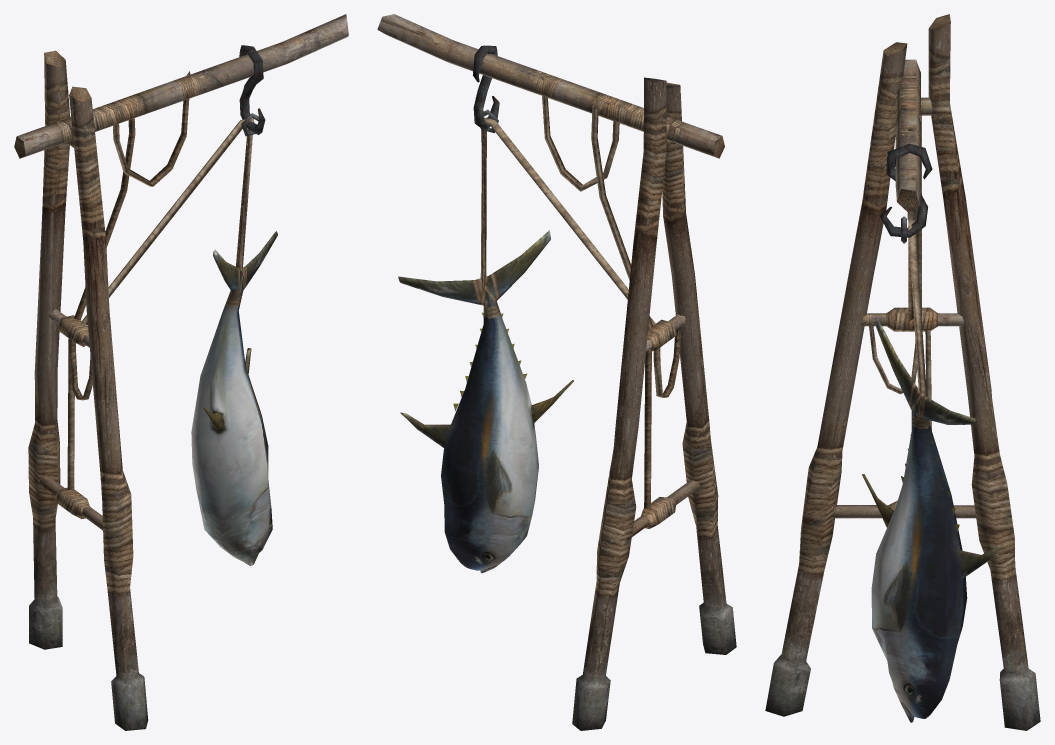
The picture shows the model from 3 angles, left to right: view 1: azimuth 30°, elevation 25°; view 2: azimuth 150°, elevation 25°; view 3: azimuth 270°, elevation 25°; orthographic projection. The views are drawn at different scales.
Parts seen in each view (by area): view 1: LV_M5_Port_FishNet_SM_KHJ; view 2: LV_M5_Port_FishNet_SM_KHJ; view 3: LV_M5_Port_FishNet_SM_KHJ.
Part boxes in pixels (x1,y1,x2,y2): LV_M5_Port_FishNet_SM_KHJ: (14, 14, 348, 730); LV_M5_Port_FishNet_SM_KHJ: (377, 14, 736, 730); LV_M5_Port_FishNet_SM_KHJ: (765, 14, 1040, 730).
Bounding box in the file's own units: 0.708 × 1.27 × 0.458.
1 material, 1 textured.
